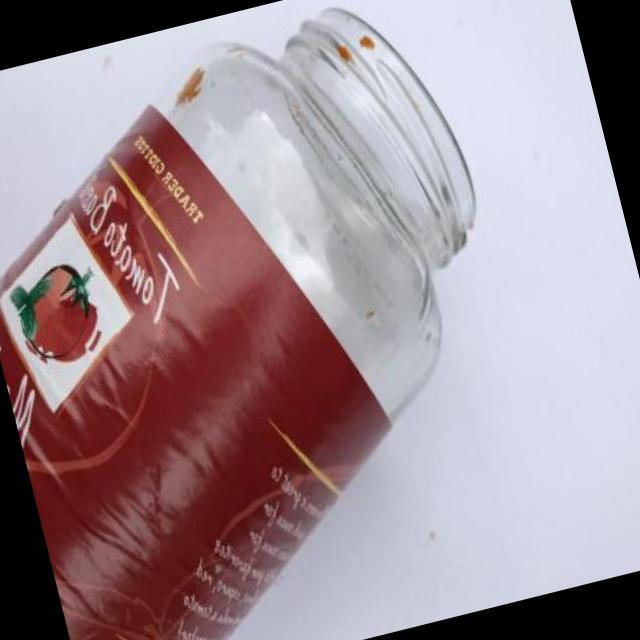ToplesKaca: (0, 0, 575, 640)
